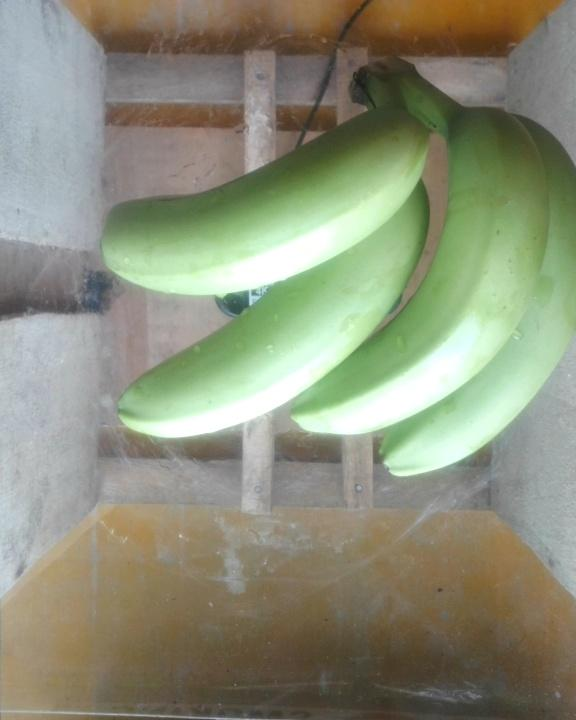SPOT: (94, 53, 576, 479)
